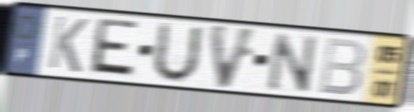B: (316, 36, 368, 99)
E: (86, 16, 141, 81)
K: (45, 13, 91, 75)
N: (266, 30, 320, 94)
U: (148, 20, 206, 85)
V: (207, 22, 261, 92)
